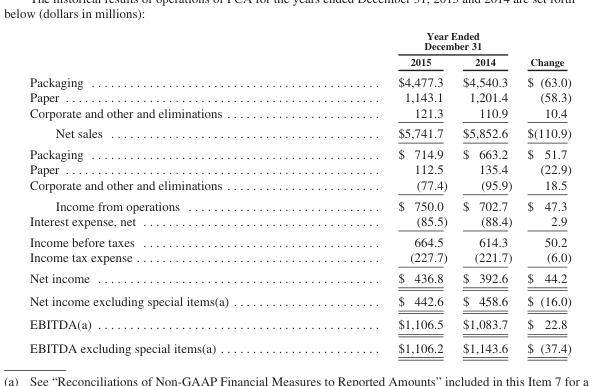table: (28, 29, 570, 354)
table column: (28, 29, 313, 354), (313, 29, 454, 354), (454, 29, 519, 354), (519, 29, 570, 354)
table column header: (28, 29, 570, 70)
table row: (28, 29, 570, 53), (28, 289, 570, 312), (28, 312, 570, 335), (28, 267, 570, 289), (28, 122, 570, 143), (28, 212, 570, 231), (28, 335, 570, 354), (28, 70, 570, 88), (28, 104, 570, 122), (28, 143, 570, 161), (28, 176, 570, 194), (28, 194, 570, 212), (28, 231, 570, 249), (28, 249, 570, 267), (28, 53, 570, 70), (28, 88, 570, 104), (28, 161, 570, 176)
table spanning cell: (313, 29, 519, 53), (519, 29, 570, 70)
